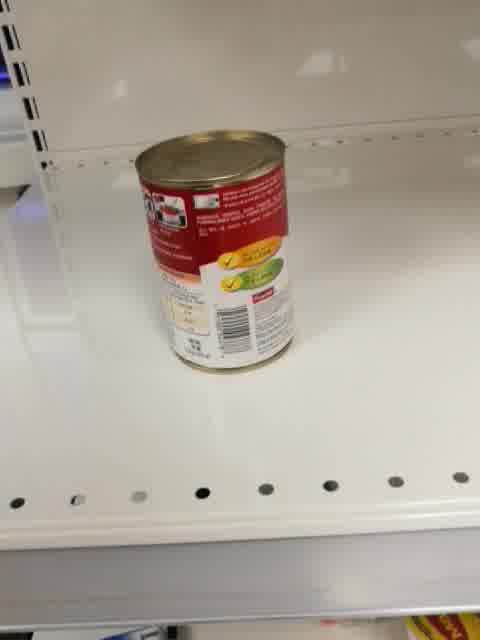tomatosoup: (134, 128, 297, 377)
